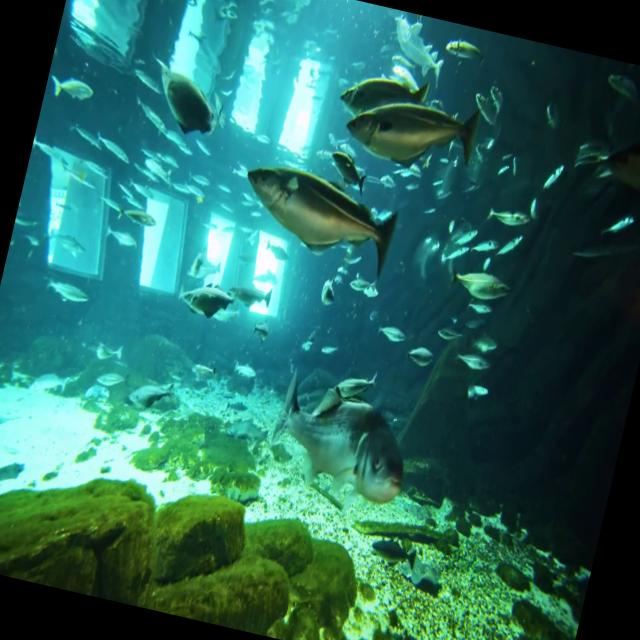fish: (250, 360, 428, 506), (231, 146, 418, 270), (336, 70, 492, 190), (128, 45, 232, 149), (557, 99, 640, 225), (305, 350, 392, 437), (332, 50, 430, 127), (160, 270, 237, 338), (444, 252, 516, 306), (430, 19, 496, 77), (42, 56, 103, 112), (215, 274, 278, 328), (480, 186, 539, 235), (447, 336, 498, 386), (112, 198, 162, 236), (601, 60, 640, 107), (402, 334, 442, 374), (369, 314, 412, 349), (312, 272, 344, 310)
